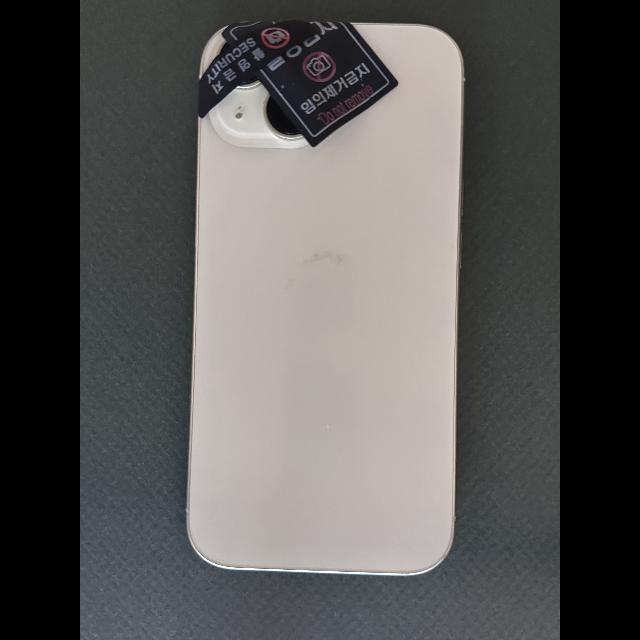lens: (263, 93, 305, 140), (237, 75, 261, 88)
phone: (187, 21, 464, 575)
sticker: (254, 20, 399, 148), (198, 20, 318, 118)
